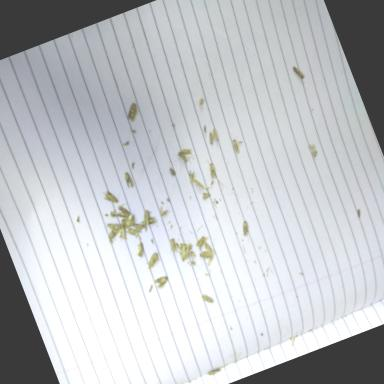pbw: (122, 102, 142, 123), (143, 252, 162, 270), (114, 202, 132, 220), (102, 188, 119, 207), (204, 157, 218, 180), (121, 213, 138, 230), (132, 242, 148, 260), (154, 274, 171, 290), (128, 224, 144, 241), (106, 229, 122, 245), (106, 218, 122, 234), (204, 241, 218, 259), (178, 244, 192, 262), (140, 210, 154, 227), (239, 221, 252, 238), (123, 171, 135, 189), (140, 216, 157, 228), (167, 238, 179, 255), (194, 236, 208, 250), (186, 168, 198, 184), (292, 64, 304, 80), (200, 292, 214, 305), (176, 150, 188, 164), (194, 178, 206, 192), (206, 130, 217, 145), (231, 138, 241, 154), (180, 240, 192, 253), (132, 221, 144, 233), (180, 146, 193, 157), (158, 204, 169, 216), (309, 143, 318, 157), (202, 191, 212, 201), (200, 250, 210, 260), (212, 128, 219, 142), (208, 368, 220, 376), (116, 228, 125, 238), (356, 209, 362, 218)
